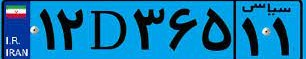character: (88, 5, 129, 55), (131, 4, 166, 56), (54, 3, 87, 56), (199, 4, 233, 55), (167, 4, 199, 55), (37, 4, 57, 57), (241, 15, 265, 59), (272, 16, 293, 59)
